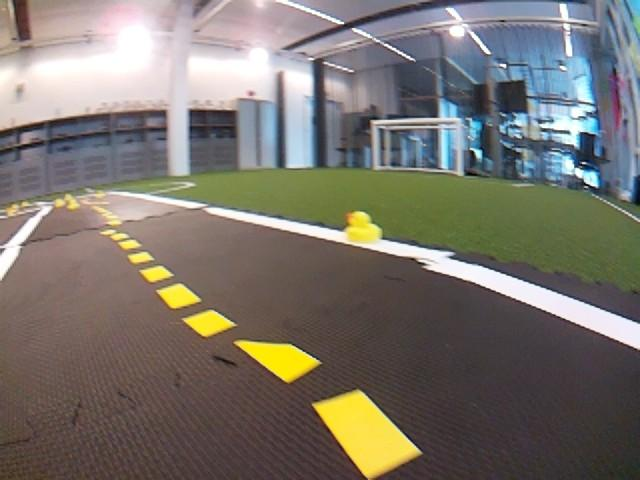Duckies: (345, 211, 383, 241), (66, 201, 79, 210), (54, 198, 65, 208), (6, 207, 17, 214), (64, 194, 73, 202), (96, 191, 105, 198), (11, 204, 20, 211), (22, 202, 29, 206)
